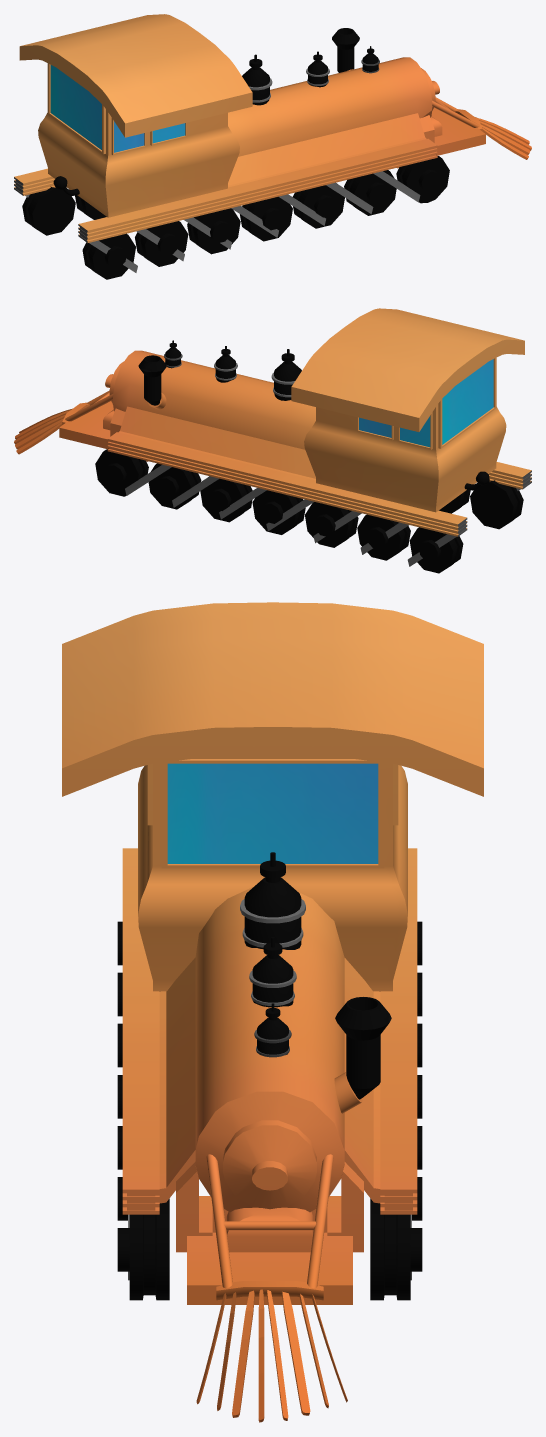
The model's file is Train_2.fbx.
3 views of the same model, one above another, from view 1: azimuth 30°, elevation 25°; view 2: azimuth 150°, elevation 25°; view 3: azimuth 270°, elevation 25° (orthographic). The views are drawn at different scales.
Visible parts, largest first — view 1: Train_2; view 2: Train_2; view 3: Train_2.
Boxes of the visible parts, x1,y1,x2,y2 form: Train_2: (14,14,531,279); Train_2: (14,308,531,573); Train_2: (62,602,483,1422).
Size of the model in its own units: 1030 by 393 by 395.
Materials: 1 (1 with a texture image).
